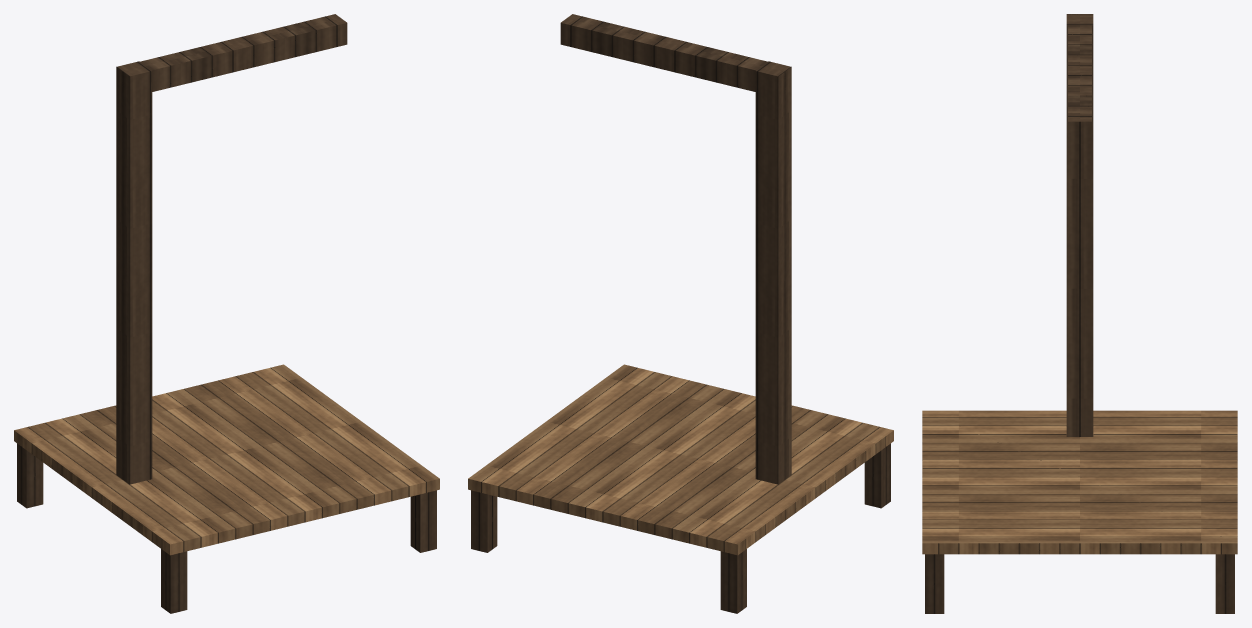
The model's file is Gallows_1_LOD2.gltf.
3 renders of one model, left to right at view 1: azimuth 30°, elevation 25°; view 2: azimuth 150°, elevation 25°; view 3: azimuth 270°, elevation 25°, orthographic.
Visible parts, largest first — view 1: Gallows_1_LOD2; view 2: Gallows_1_LOD2; view 3: Gallows_1_LOD2.
Boxes of the visible parts, x1,y1,x2,y2 form: Gallows_1_LOD2: (14,14,439,613); Gallows_1_LOD2: (468,14,893,613); Gallows_1_LOD2: (922,14,1237,613).
Bounding box in the file's own units: 2.59 × 4.4 × 2.6.
2 materials, 2 textured.
